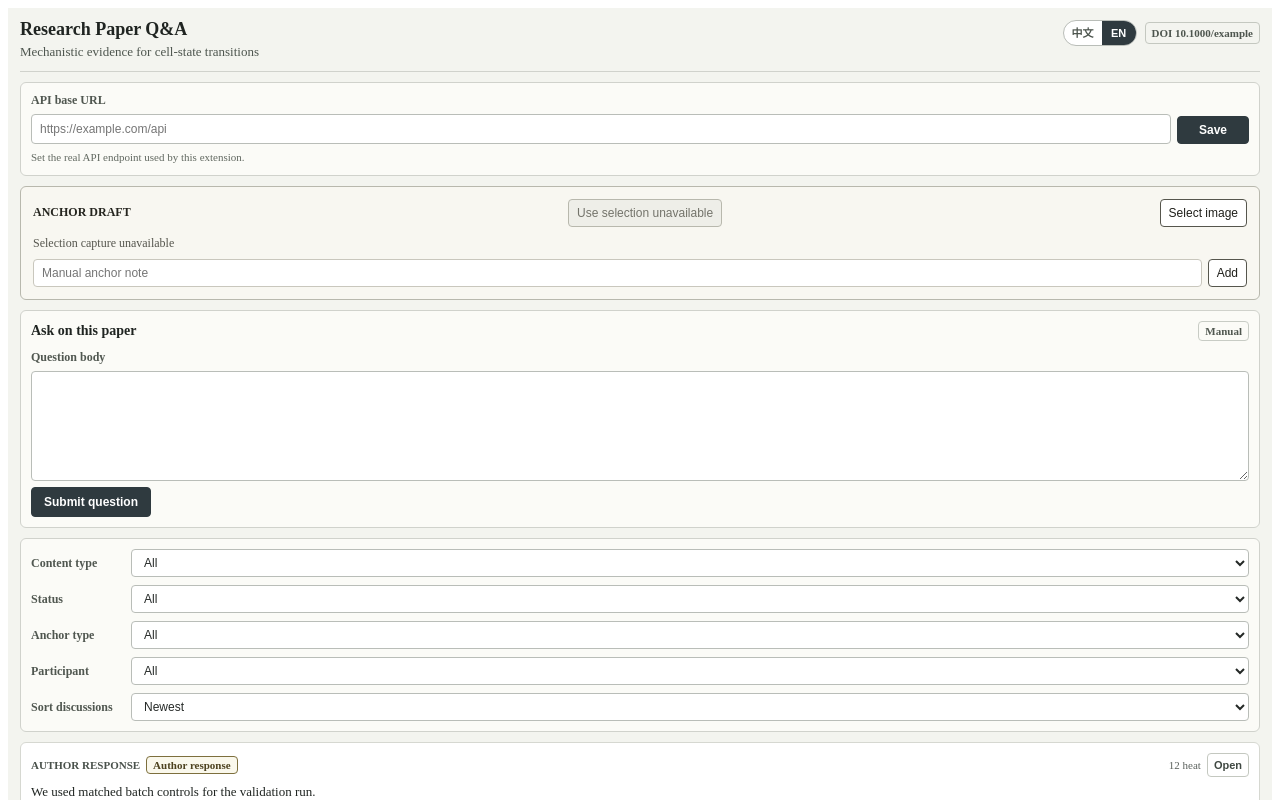
Test case: Sidebar discussion UI › content type filter hides non-matching rows
Select "Answer" in the dropdown labelled "Content type": (690, 563) [131,549,1249,577]
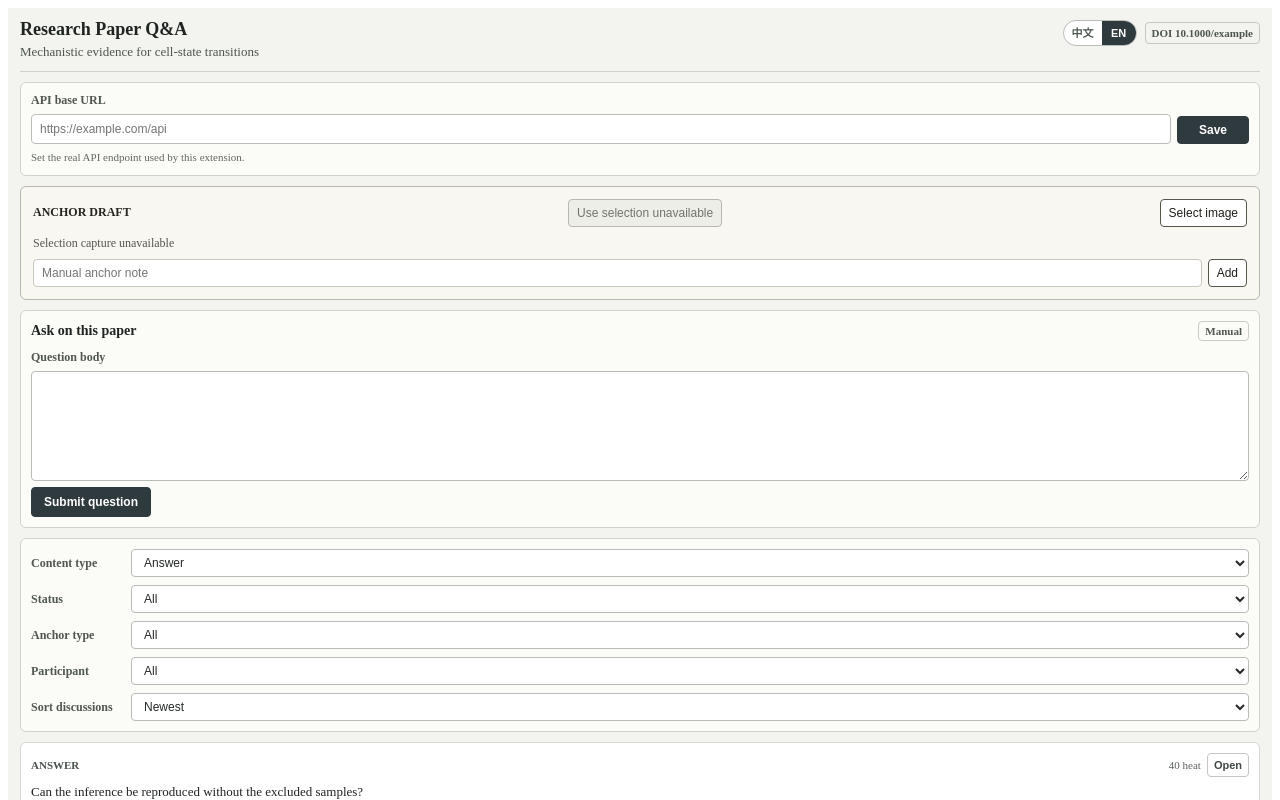
Check: the text "Can the inference be reproduced without the excluded samples?" is shown, box [31,784,363,799]
Check: the text "We used matched batch controls for the validation run." is gone
